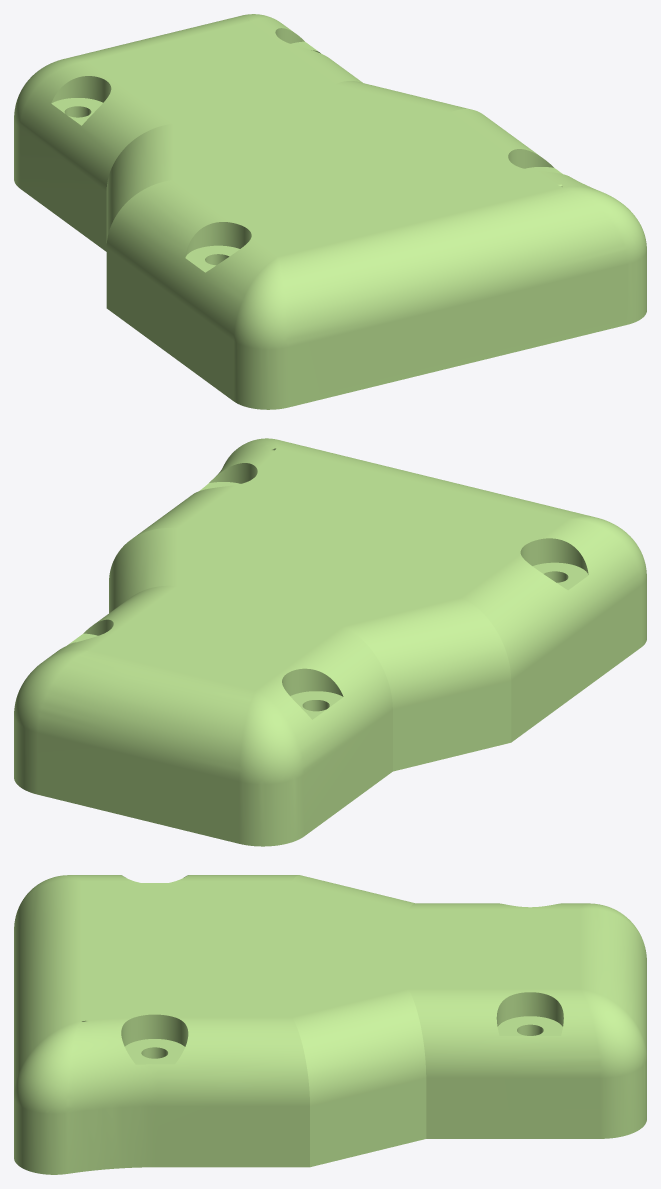
Rendered from Main_CaseOutside_3.dae.
3 views of the same model, one above another, from view 1: azimuth 30°, elevation 25°; view 2: azimuth 150°, elevation 25°; view 3: azimuth 270°, elevation 25° (orthographic). The views are drawn at different scales.
Parts seen in each view (by area): view 1: Main_CaseOutside_3; view 2: Main_CaseOutside_3; view 3: Main_CaseOutside_3.
Boxes of the visible parts, x1,y1,x2,y2 form: Main_CaseOutside_3: (14,14,646,409); Main_CaseOutside_3: (14,438,646,846); Main_CaseOutside_3: (14,875,646,1174).
Bounding box in the file's own units: 0.0353 × 0.0472 × 0.01.
